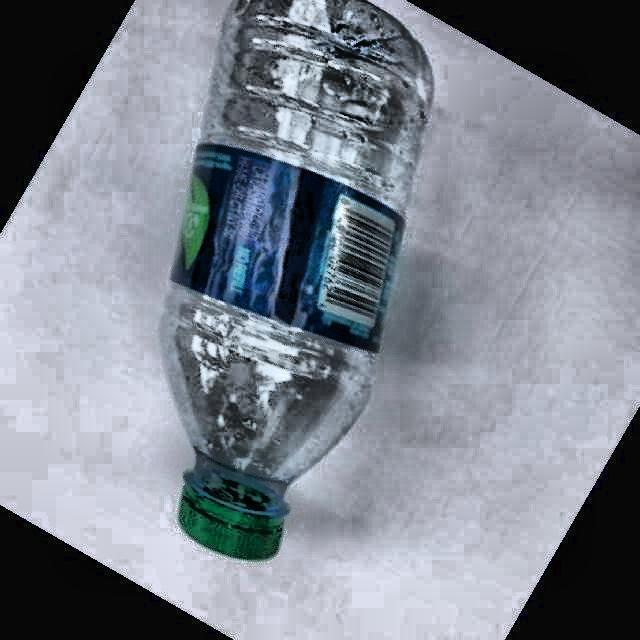plastic: (161, 0, 431, 559)
